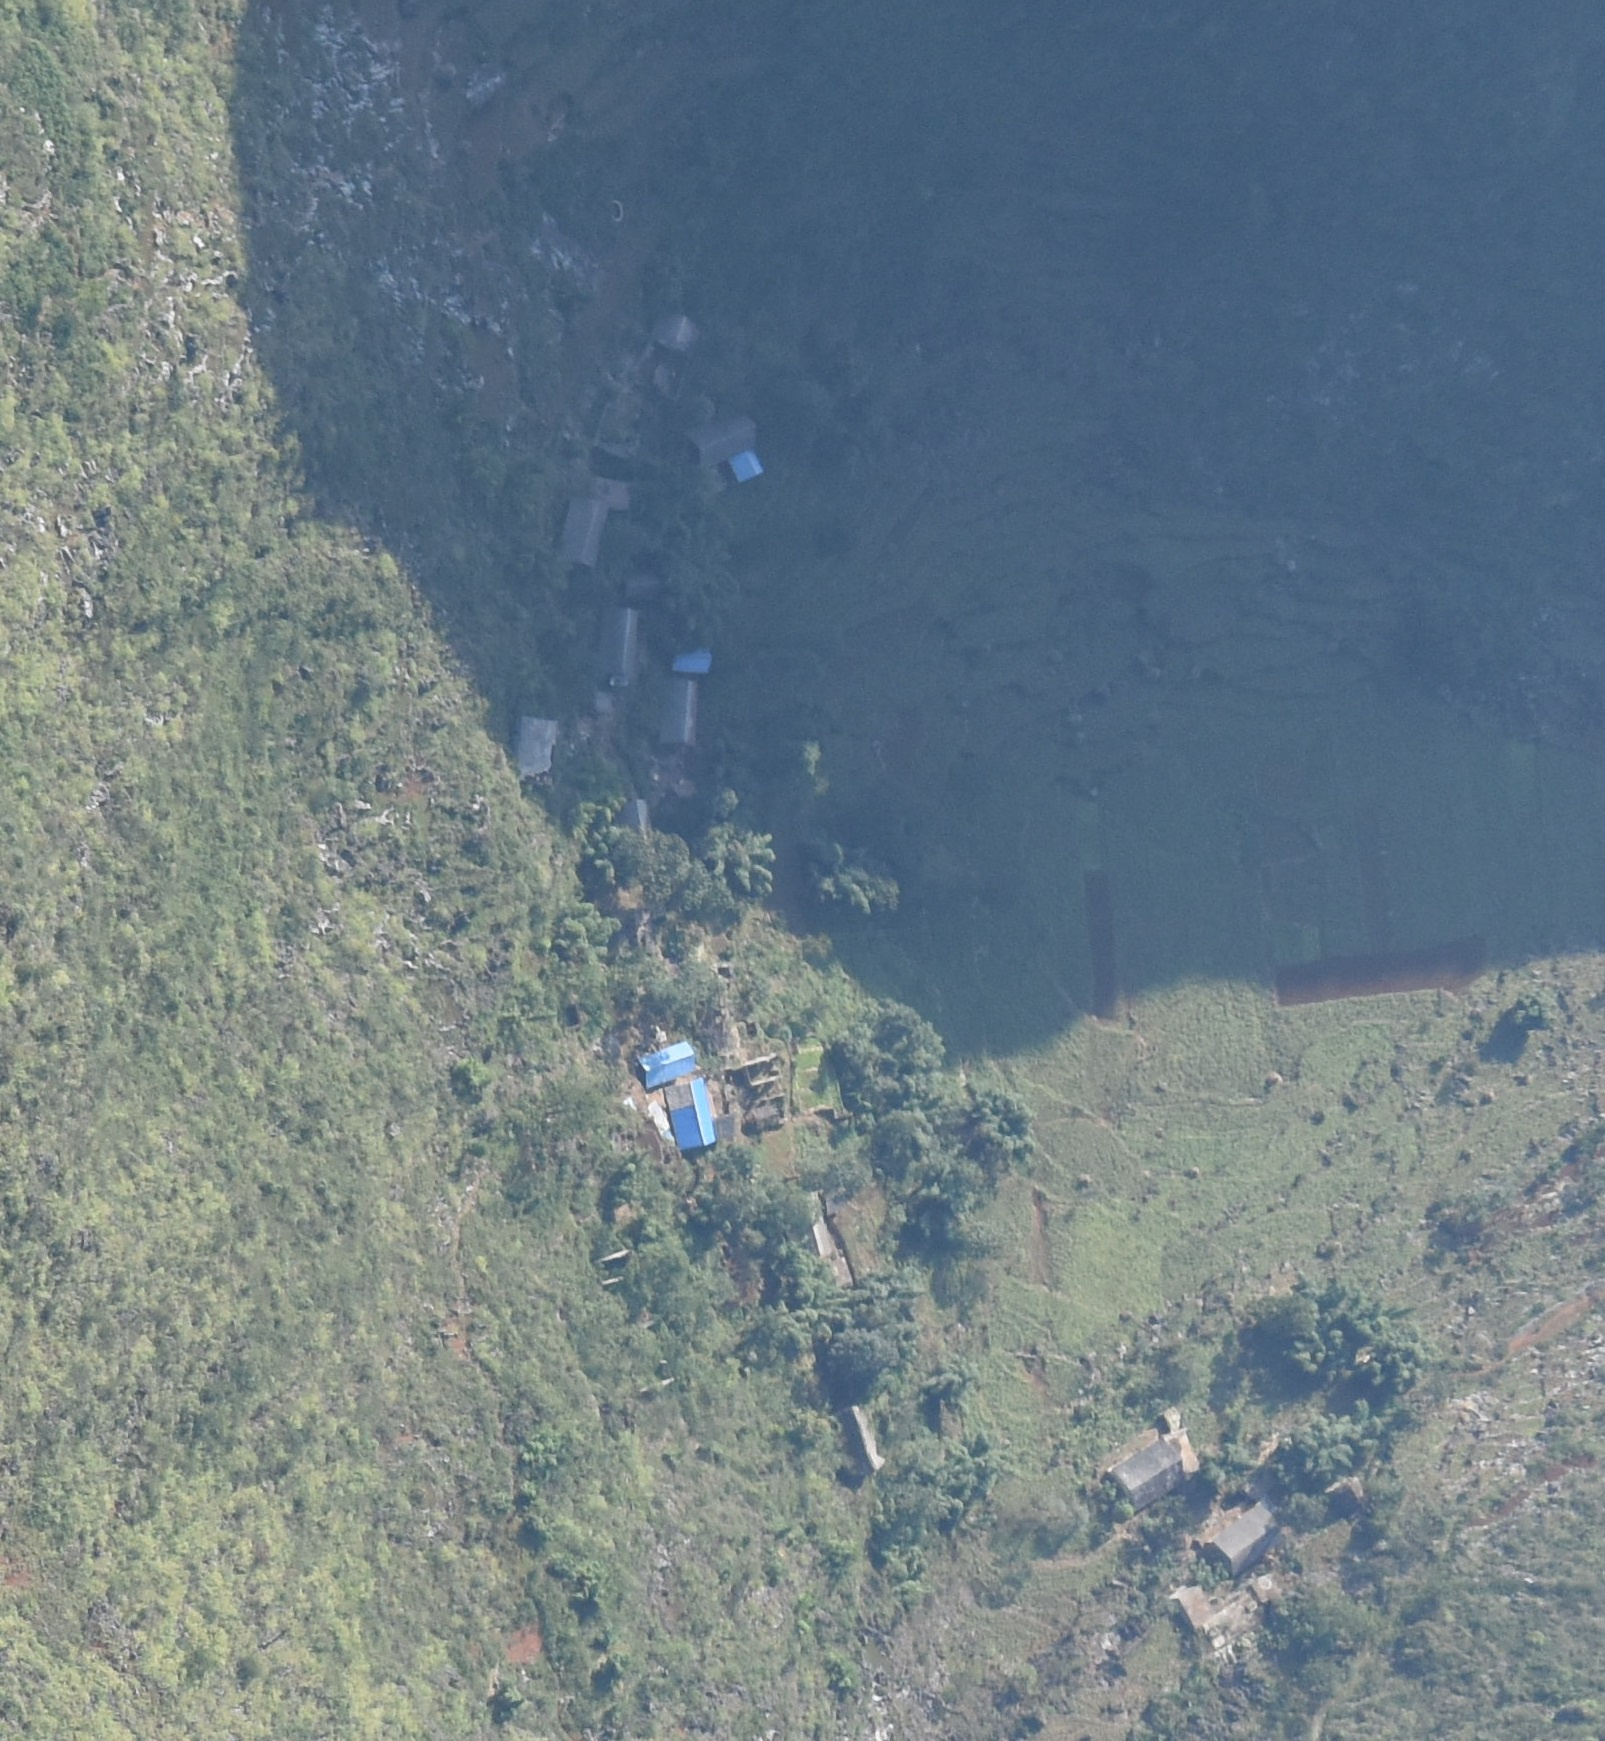building: (557, 472, 629, 568), (1102, 1435, 1192, 1509), (1208, 1500, 1284, 1577), (595, 605, 642, 691), (685, 411, 758, 462), (836, 1405, 881, 1477), (788, 1193, 833, 1253), (661, 678, 699, 747), (518, 715, 559, 778), (647, 308, 697, 353), (1171, 1586, 1211, 1633), (622, 799, 656, 848)
prefabricated-house: (666, 1079, 720, 1149), (635, 1042, 698, 1087), (728, 451, 763, 483), (672, 648, 712, 674)
